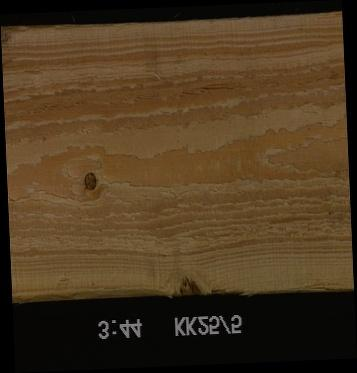dry_knot: (82, 171, 97, 191)
split: (306, 282, 335, 291)
wave: (11, 287, 305, 301)
